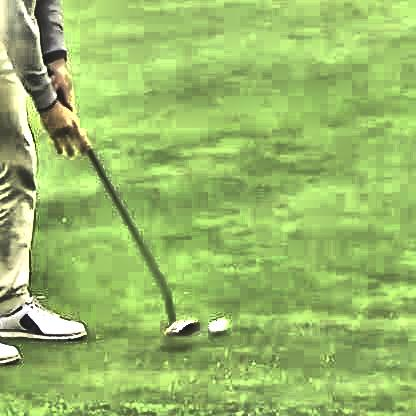golfball: (207, 314, 227, 334)
